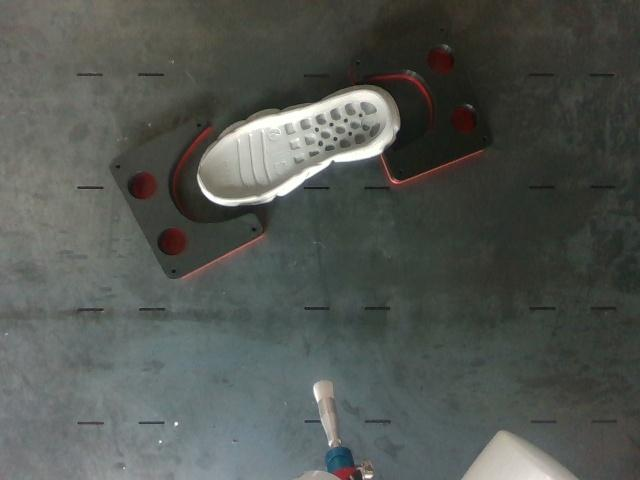shoes: (199, 92, 388, 199)
